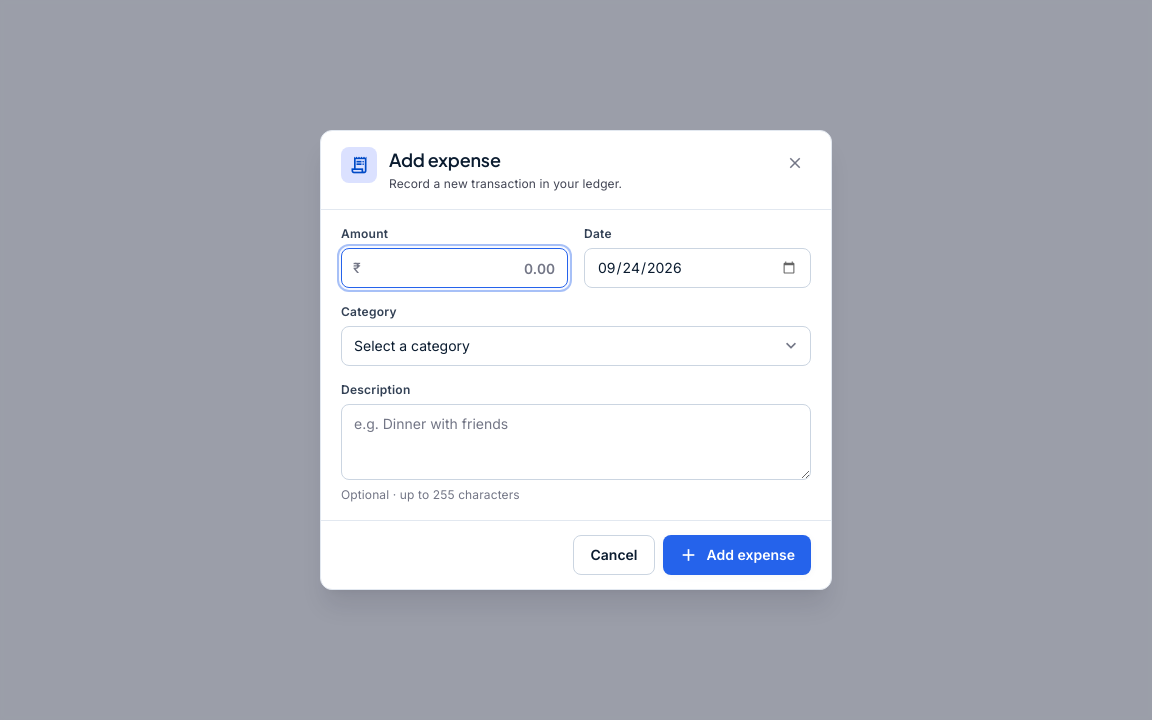
it: ExpenseFormModal › rejects more than two decimal places
Type "10.555" into the field labelled "Amount" at (454, 268), box [341,248,568,288]
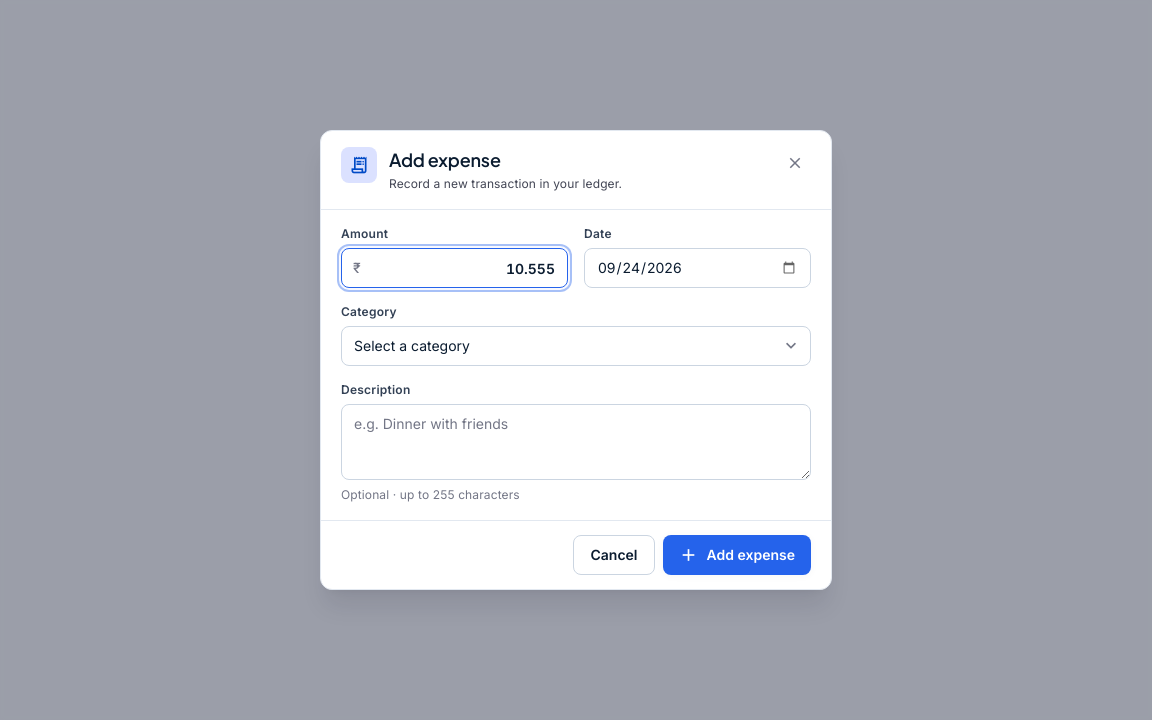
Click the button "Add expense" at (737, 555), box [662,535,811,575]
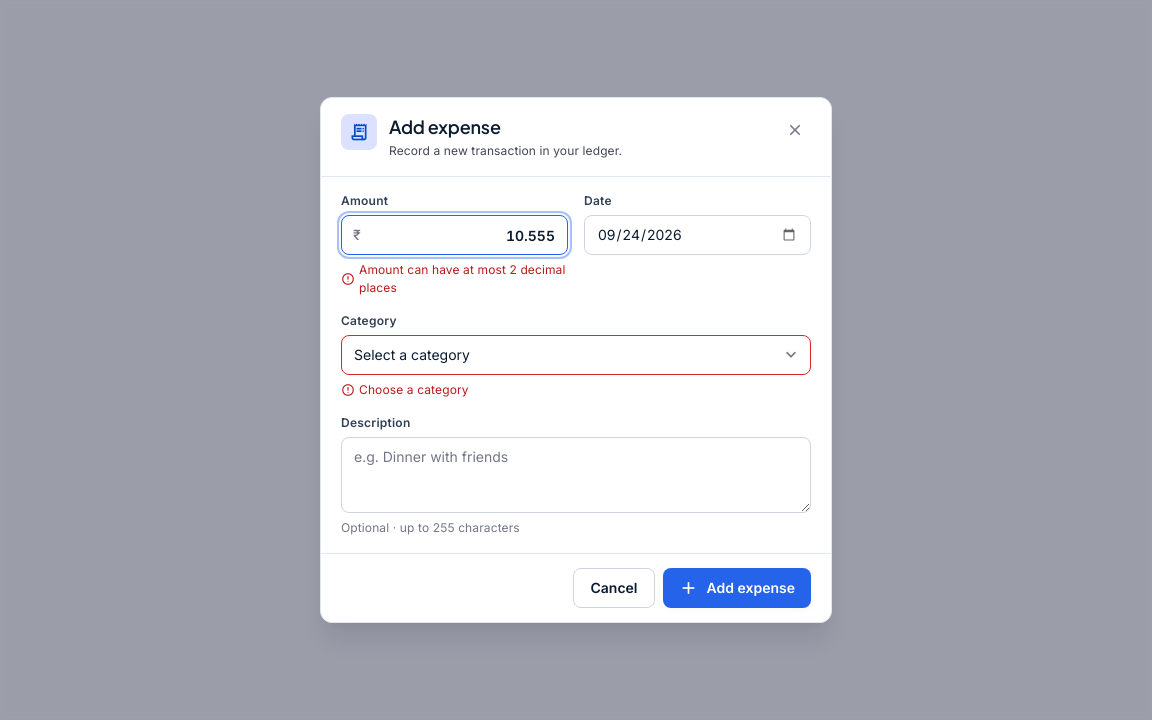
Result: the text "Amount can have at most 2 decimal places" is shown at [341,261,568,297]
